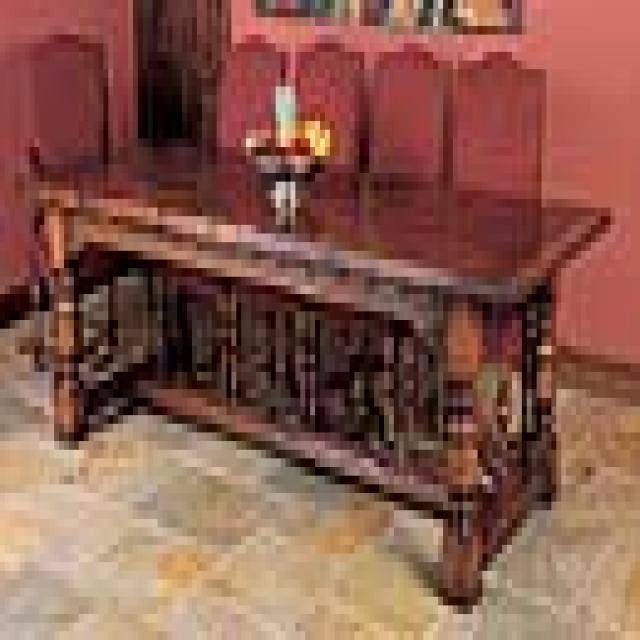table: (16, 143, 611, 613)
